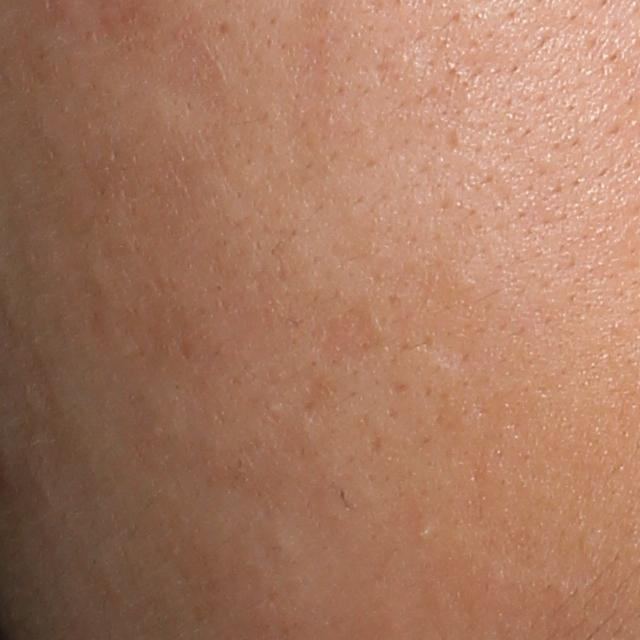atrophic_scar: (443, 126, 461, 154)
comedo: (415, 522, 431, 540)
